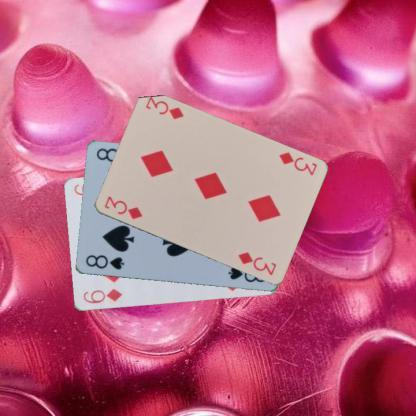3d: (276, 148, 318, 178), (101, 193, 143, 221)
6d: (80, 287, 123, 305)
8s: (82, 252, 124, 271)
